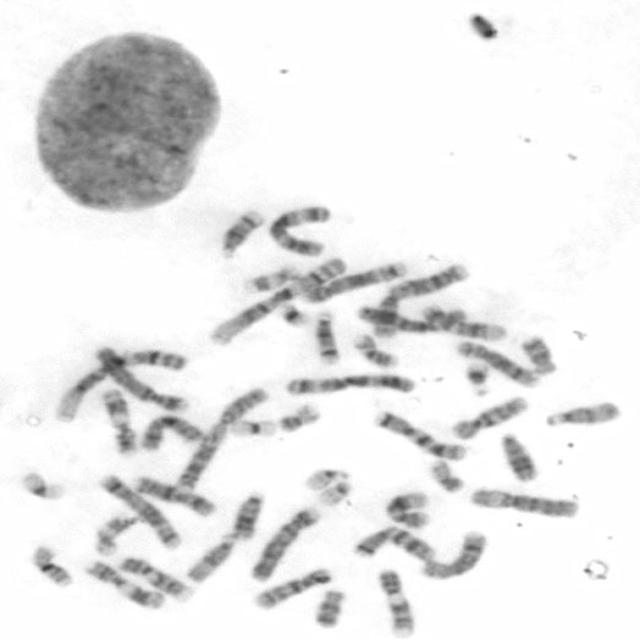A1: (205, 253, 348, 346), (49, 344, 189, 425)
A2: (170, 381, 271, 492), (365, 260, 472, 341)
A3: (281, 369, 419, 398), (264, 200, 333, 258)
B4: (89, 342, 192, 414), (246, 502, 324, 582)
B5: (94, 471, 184, 550), (301, 256, 409, 304)
C10: (446, 391, 531, 442), (249, 563, 334, 612)
C11: (78, 554, 167, 610), (97, 385, 138, 456)
C12: (416, 300, 509, 342), (380, 486, 432, 530)
C6: (465, 484, 583, 520), (353, 298, 469, 334)
C7: (369, 407, 470, 462), (350, 522, 438, 564)
C8: (451, 336, 542, 388), (415, 526, 489, 581)
C9: (115, 552, 196, 602), (372, 564, 416, 637)
D13: (495, 428, 541, 483), (228, 486, 268, 540)
D14: (215, 205, 266, 260), (309, 306, 342, 365)
D15: (181, 530, 238, 585), (541, 396, 623, 428)
E16: (26, 539, 76, 589), (350, 331, 404, 371)
E17: (89, 511, 138, 558), (237, 259, 300, 294)
E18: (517, 331, 559, 376), (309, 585, 348, 630)
F19: (16, 466, 68, 502), (225, 414, 278, 439)
F20: (274, 398, 322, 434), (425, 456, 465, 495)
G21: (458, 358, 493, 398), (274, 297, 310, 330)
G22: (300, 464, 352, 492), (313, 476, 353, 507)
X: (127, 470, 217, 519), (136, 411, 208, 452)
